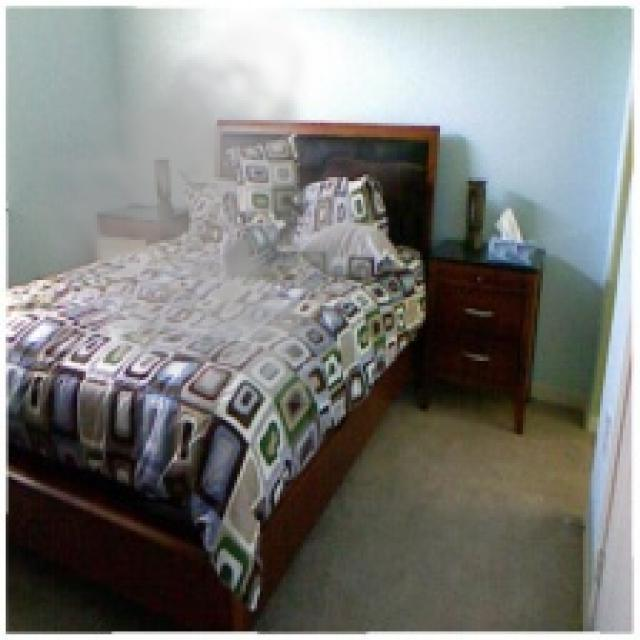Smoke: (6, 8, 406, 403)
